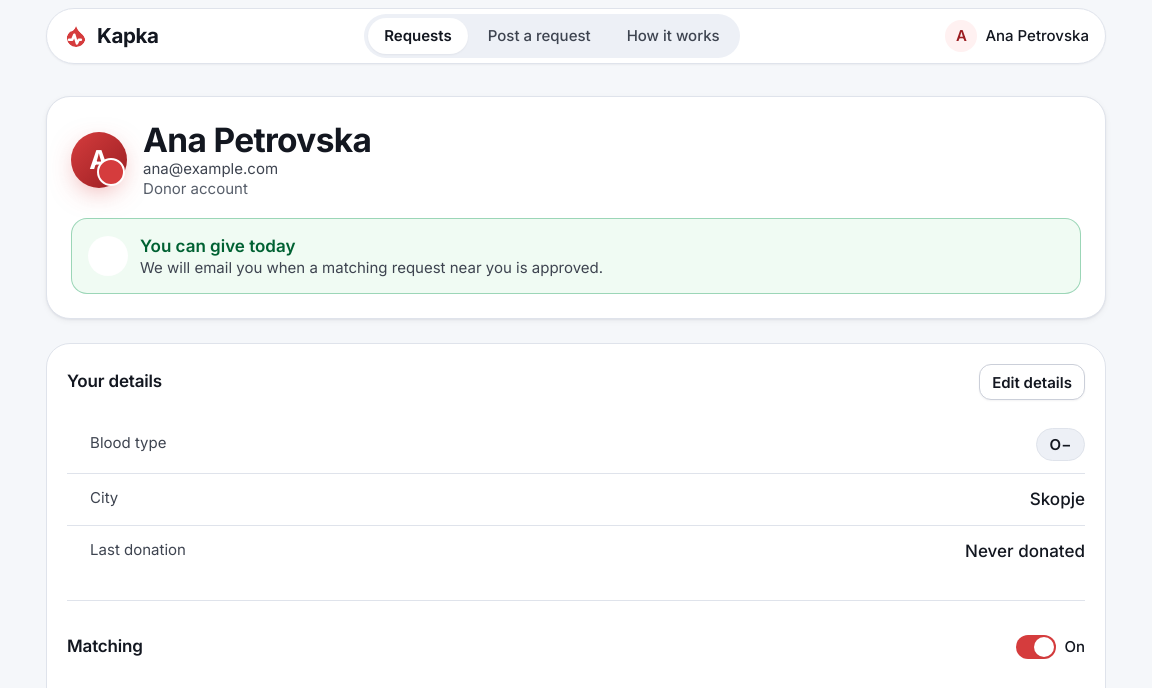
Scenario: the pause switch › keeps the old state when the save fails
Click the switch named "Email me about matching requests" at (1051, 647), box left=1016, top=625, right=1085, bottom=669
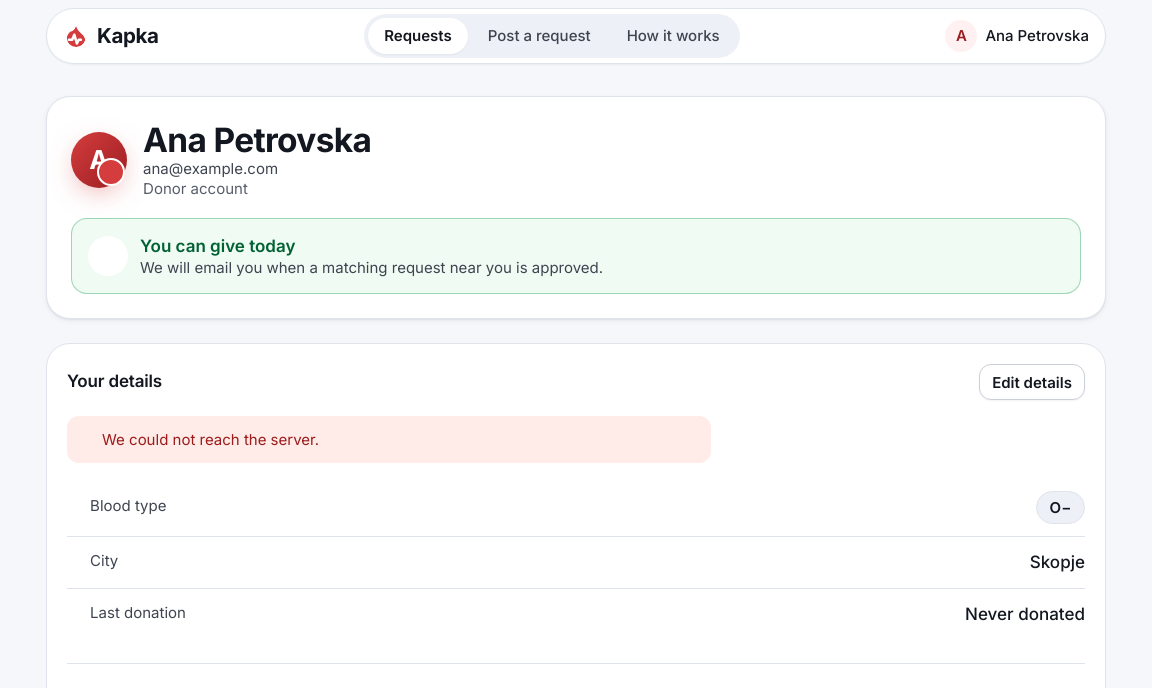
Check: the text "You can give today" is shown, box left=140, top=236, right=296, bottom=256
Check: the message "We could not reach the server." is shown, box left=67, top=416, right=711, bottom=463
